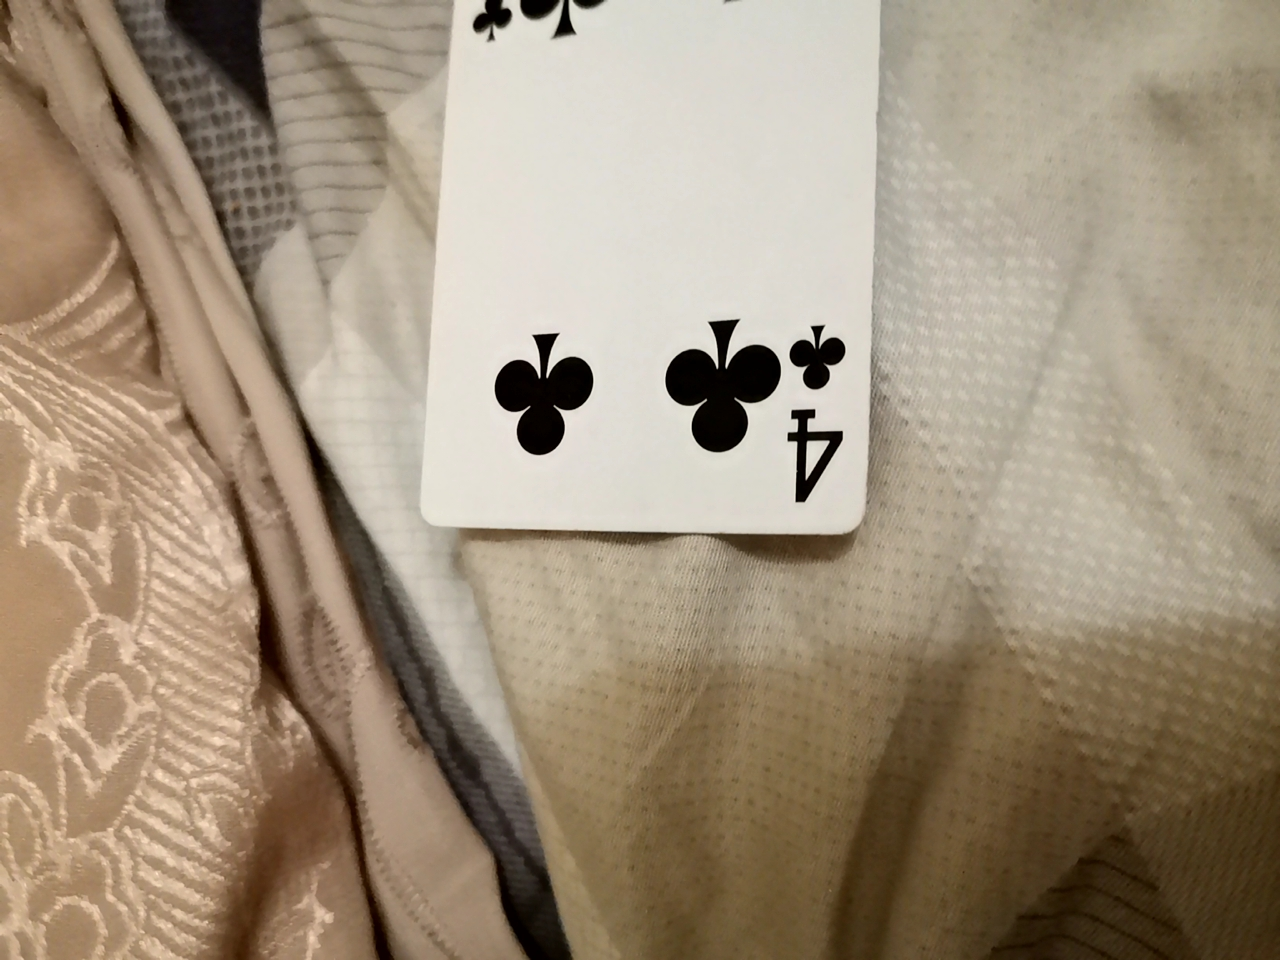mh 4: (405, 30, 898, 580)
